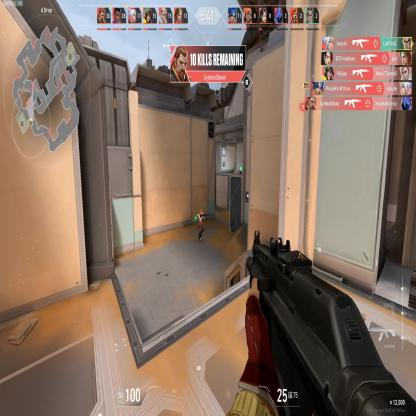enemy: (196, 208, 205, 241)
